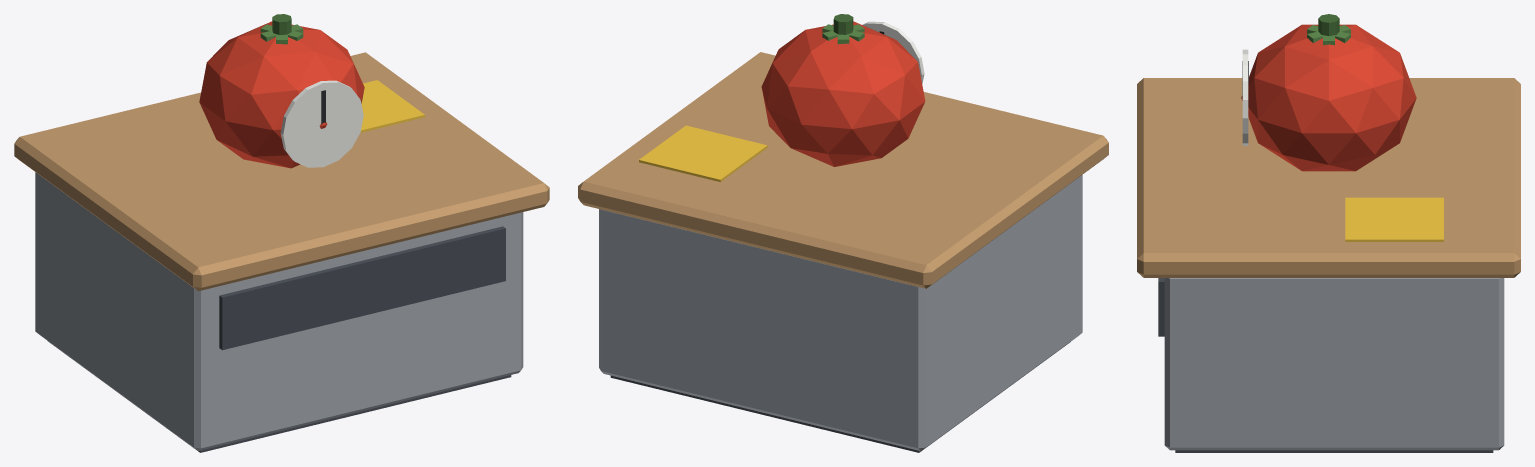
The model's file is pomodoro_1.glb.
3 renders of one model, left to right at view 1: azimuth 30°, elevation 25°; view 2: azimuth 150°, elevation 25°; view 3: azimuth 270°, elevation 25°, orthographic. The views are drawn at different scales.
Visible parts, largest first — view 1: pomodoro_1_mesh_Desk, pomodoro_1_mesh; view 2: pomodoro_1_mesh_Desk, pomodoro_1_mesh; view 3: pomodoro_1_mesh_Desk, pomodoro_1_mesh.
Boxes of the visible parts, x1,y1,x2,y2 form: pomodoro_1_mesh_Desk: (14, 52, 549, 452); pomodoro_1_mesh: (199, 14, 424, 168); pomodoro_1_mesh_Desk: (578, 52, 1108, 452); pomodoro_1_mesh: (639, 14, 925, 181); pomodoro_1_mesh_Desk: (1137, 78, 1520, 452); pomodoro_1_mesh: (1241, 14, 1443, 241).
Bounding box in the file's own units: 0.78 × 0.716 × 0.7.
